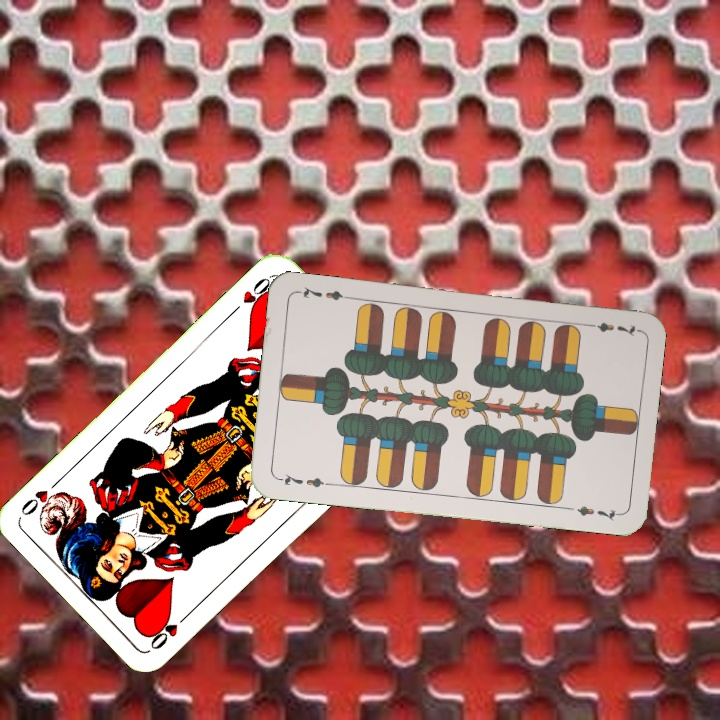E7: (274, 469, 333, 491), (581, 318, 640, 339)
HO: (145, 607, 194, 653), (227, 272, 276, 317)
